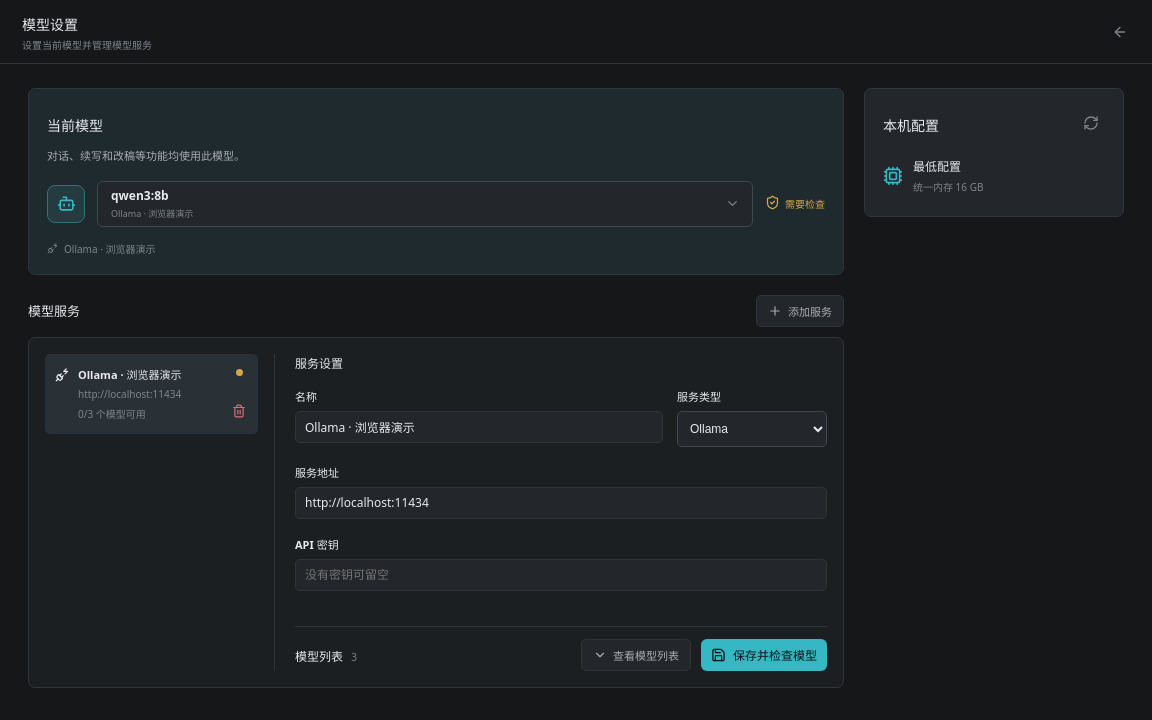
model settings workflow › opens the model list upward only when the window has more room above
Click the dropdown named "当前模型".
click(140, 196)  # box [97,181,753,227]
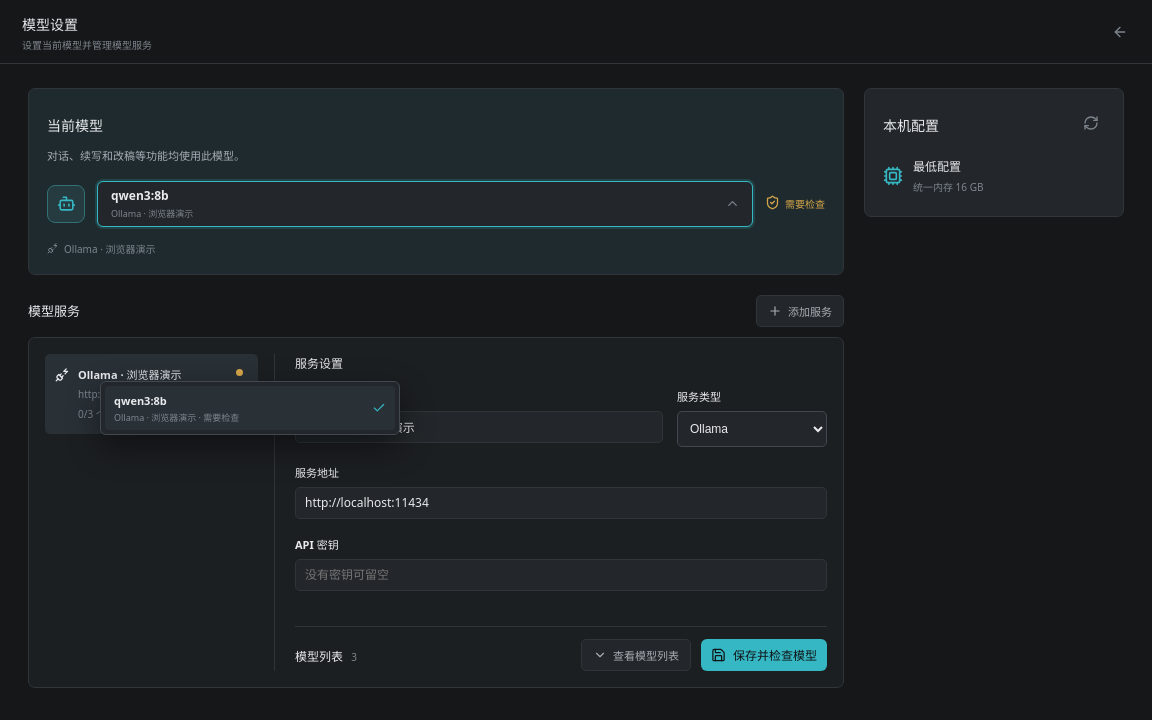
Press Escape in the dropdown named "当前模型", box [97,181,753,227]
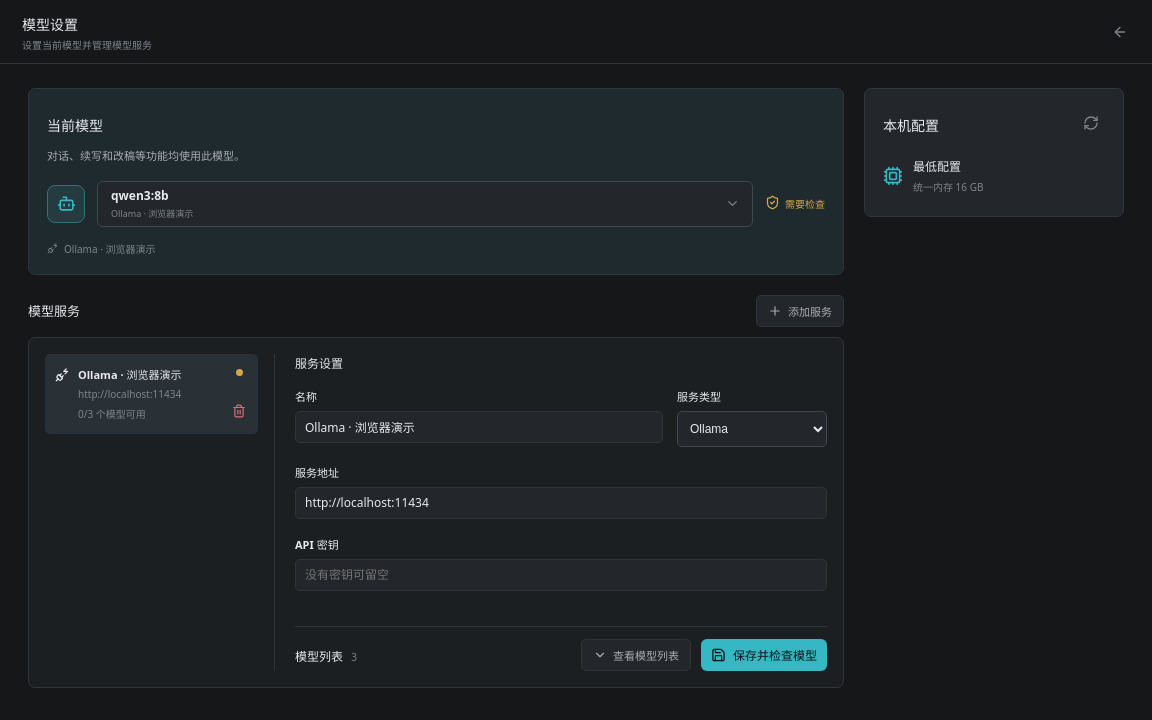
Now the list "qwen3:8b Ollama · 浏览器演示 · 需要检查" is gone
